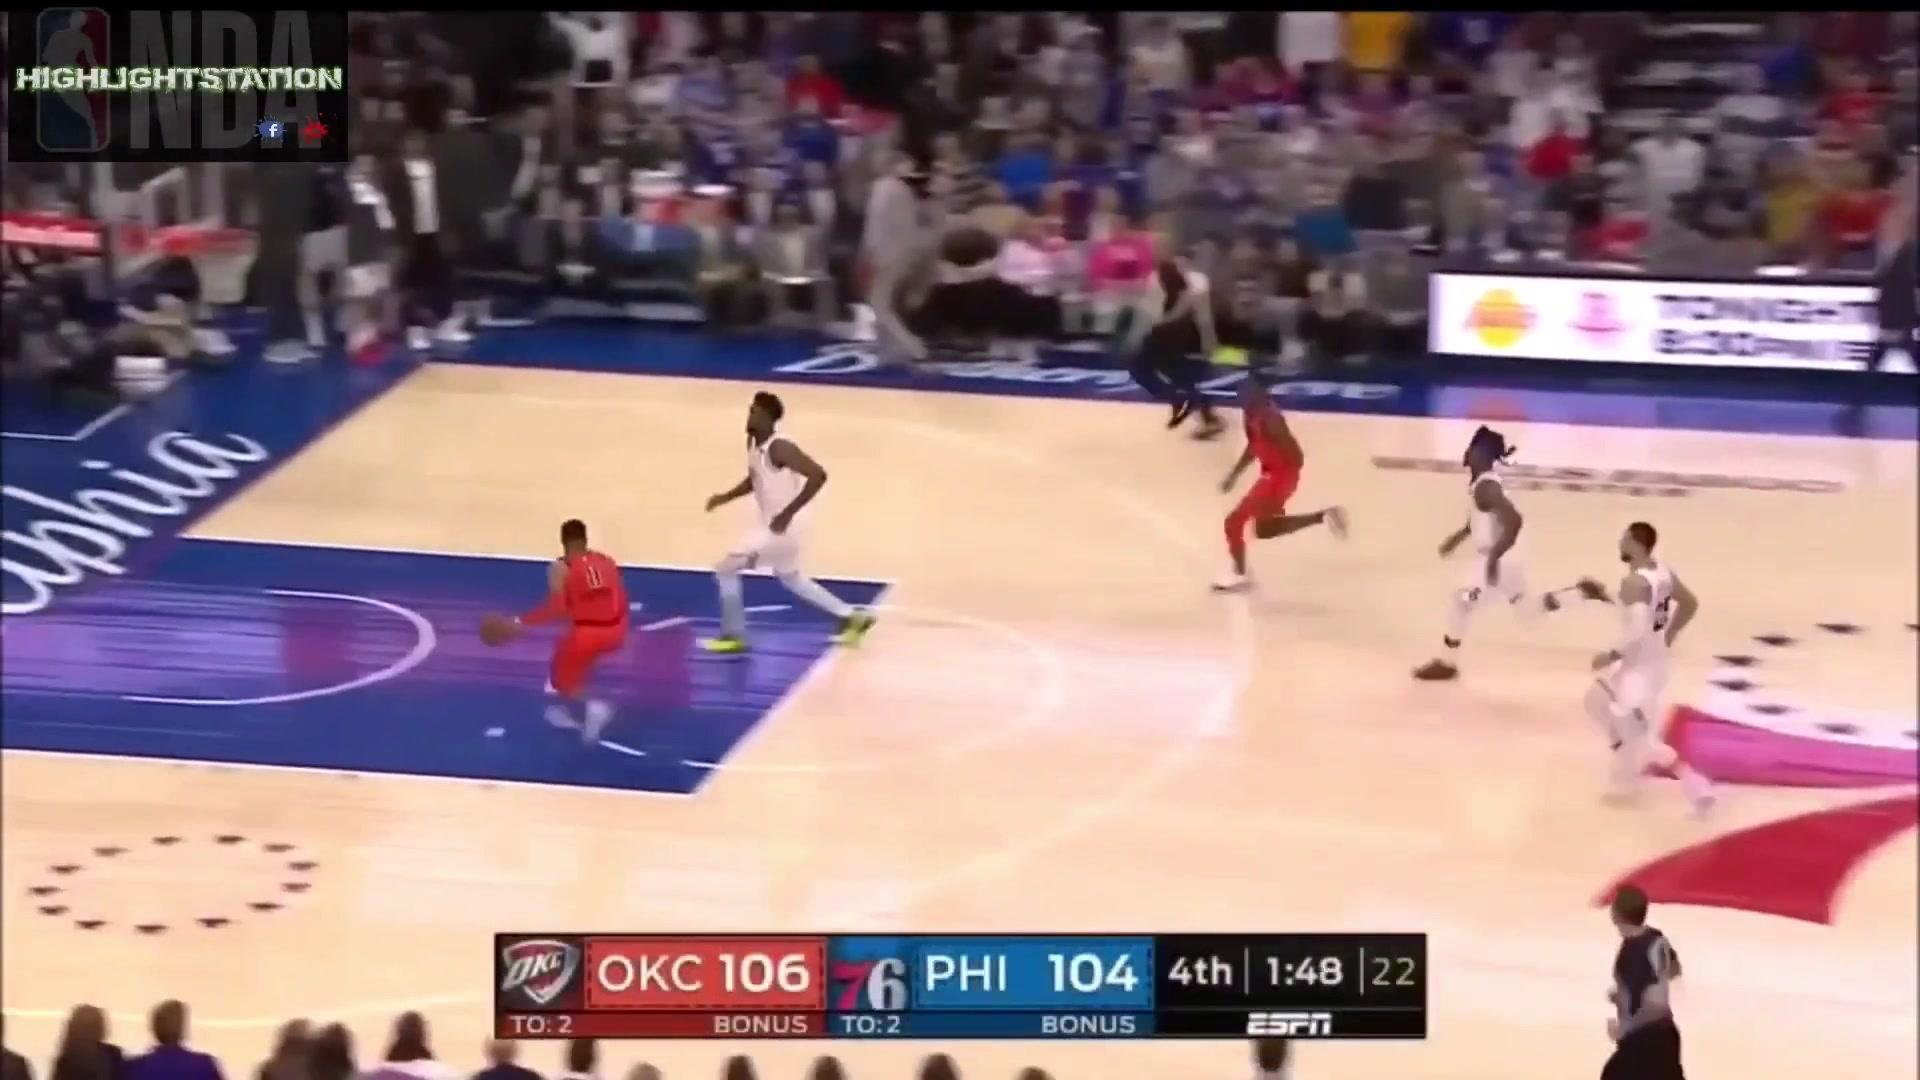no_foul: (512, 384, 869, 738)
